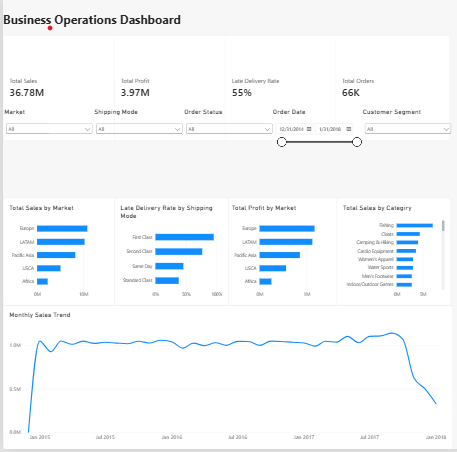

What the dashboard file says about the page in this screenshot:
{"tool":"powerbi","page":{"name":"Page 1","canvas":[1920,1200],"ordinal":0},"visuals":[{"type":"cardVisual","fields":{"Data":["public supply_chain_analytics.Total Sales"]},"box":[0,96,305,280],"z":0},{"type":"cardVisual","fields":{"Data":["public supply_chain_analytics.Total Profit"]},"box":[296,96,305,280],"z":1000},{"type":"textbox","box":[0,32,1920,64],"z":2000},{"type":"cardVisual","fields":{"Data":["public supply_chain_analytics.Late Delivery Rate"]},"box":[592,96,305,280],"z":3000},{"type":"cardVisual","fields":{"Data":["public supply_chain_analytics.Total Orders"]},"box":[888,96,305,280],"z":4000},{"type":"clusteredBarChart","title":"Total Sales by Market","fields":{"Category":["public supply_chain_analytics.market"],"Y":["public supply_chain_analytics.Total Sales"]},"box":[0.7,530,305,288],"z":5000},{"type":"clusteredBarChart","title":"Total Profit by Market","fields":{"Category":["public supply_chain_analytics.market"],"Y":["public supply_chain_analytics.Total Profit"]},"box":[592.7,530,305,288],"z":6000},{"type":"clusteredBarChart","title":"Late Delivery Rate by Shipping Mode","fields":{"Category":["public supply_chain_analytics.shipping_mode"],"Y":["public supply_chain_analytics.Late Delivery Rate"]},"box":[296.7,530,305,288],"z":7000},{"type":"clusteredBarChart","title":"Total Sales by Categiry","fields":{"Category":["public supply_chain_analytics.category_name"],"Y":["public supply_chain_analytics.Total Sales"]},"box":[888.7,530,305,288],"z":8000},{"type":"lineChart","title":"Monthly Sales Trend","fields":{"Category":["public supply_chain_analytics.order_date.Variation.Date Hierarchy.Year","public supply_chain_analytics.order_date.Variation.Date Hierarchy.Quarter","public supply_chain_analytics.order_date.Variation.Date Hierarchy.Month"],"Y":["public supply_chain_analytics.Total Sales"]},"box":[0,816,1200,384],"z":9000},{"type":"slicer","title":"Market","fields":{"Values":["public supply_chain_analytics.market"]},"box":[3.6,290,240,250],"z":10000},{"type":"slicer","title":"Shipping Mode","fields":{"Values":["public supply_chain_analytics.shipping_mode"]},"box":[242.7,290,240,250],"z":11000},{"type":"slicer","title":"Order Status","fields":{"Values":["public supply_chain_analytics.order_status"]},"box":[481.8,290,240,250],"z":12000},{"type":"slicer","title":"Order Date","fields":{"Values":["public supply_chain_analytics.order_date"]},"box":[720.9,290,240,130],"z":13000},{"type":"slicer","title":"Customer Segment","fields":{"Values":["public supply_chain_analytics.customer_segment"]},"box":[960,290,240,250],"z":14000}]}

Visuals, with their boxes on the page's 1920x1200 design canvas (x1, y1, x2, y2). These are canvas units, not pixel positions in the 457x452 screenshot, which may show the page scaled, cropped or inside an application window:
cardVisual - public supply_chain_analytics.Total Sales: box=[0, 96, 305, 376]
cardVisual - public supply_chain_analytics.Total Profit: box=[296, 96, 601, 376]
textbox: box=[0, 32, 1920, 96]
cardVisual - public supply_chain_analytics.Late Delivery Rate: box=[592, 96, 897, 376]
cardVisual - public supply_chain_analytics.Total Orders: box=[888, 96, 1193, 376]
"Total Sales by Market" clusteredBarChart: box=[1, 530, 306, 818]
"Total Profit by Market" clusteredBarChart: box=[593, 530, 898, 818]
"Late Delivery Rate by Shipping Mode" clusteredBarChart: box=[297, 530, 602, 818]
"Total Sales by Categiry" clusteredBarChart: box=[889, 530, 1194, 818]
"Monthly Sales Trend" lineChart: box=[0, 816, 1200, 1200]
"Market" slicer: box=[4, 290, 244, 540]
"Shipping Mode" slicer: box=[243, 290, 483, 540]
"Order Status" slicer: box=[482, 290, 722, 540]
"Order Date" slicer: box=[721, 290, 961, 420]
"Customer Segment" slicer: box=[960, 290, 1200, 540]
